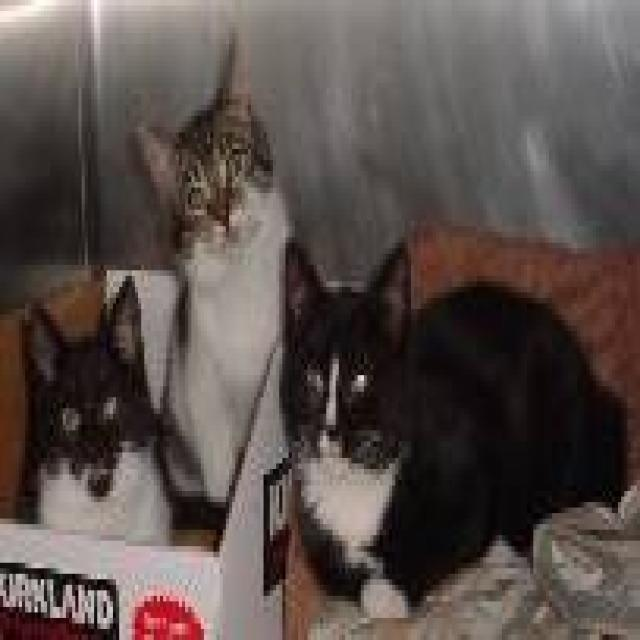cat: (276, 232, 628, 618), (132, 28, 295, 524)
